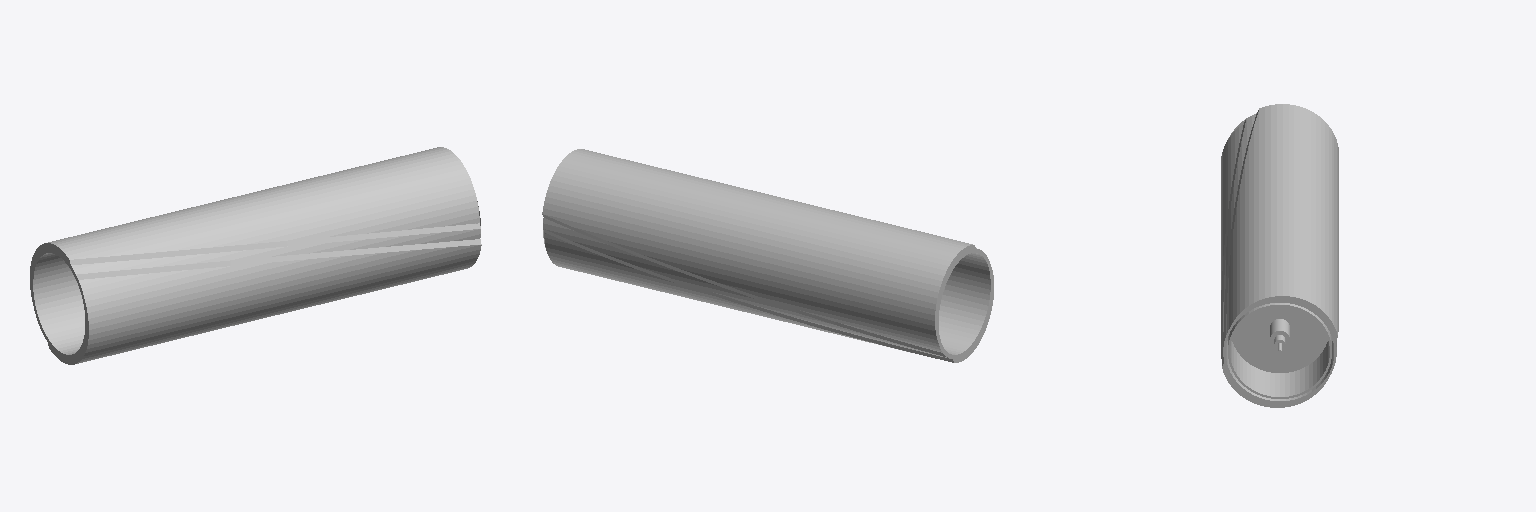
File: BrushBar.obj
3 views of the same model, side by side, from view 1: azimuth 30°, elevation 25°; view 2: azimuth 150°, elevation 25°; view 3: azimuth 270°, elevation 25° (orthographic).
Parts seen in each view (by area): view 1: BrushBar_body_Cylinder.005; view 2: BrushBar_body_Cylinder.005; view 3: BrushBar_body_Cylinder.005.
Boxes of the visible parts, x1,y1,x2,y2 form: BrushBar_body_Cylinder.005: [30, 147, 481, 364]; BrushBar_body_Cylinder.005: [542, 149, 993, 362]; BrushBar_body_Cylinder.005: [1221, 104, 1338, 407].
Size of the model in its own units: 2 by 0.5446 by 0.5227.